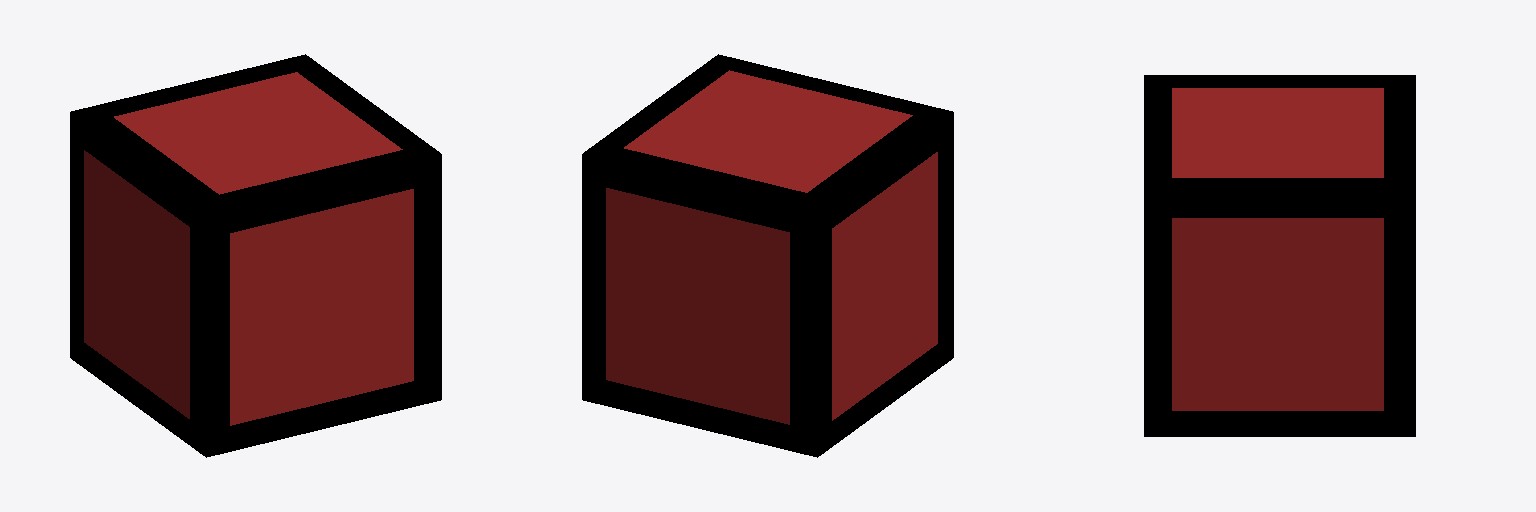
3 renders of one model, left to right at view 1: azimuth 30°, elevation 25°; view 2: azimuth 150°, elevation 25°; view 3: azimuth 270°, elevation 25°, orthographic.
Parts seen in each view (by area): view 1: Cube; view 2: Cube; view 3: Cube.
Boxes of the visible parts, box(x1,y1,x2,y2) form: Cube: box(70, 54, 441, 457); Cube: box(582, 54, 953, 457); Cube: box(1144, 75, 1415, 436).
Size of the model in its own units: 2 by 2 by 2.
1 materials, 1 textured.